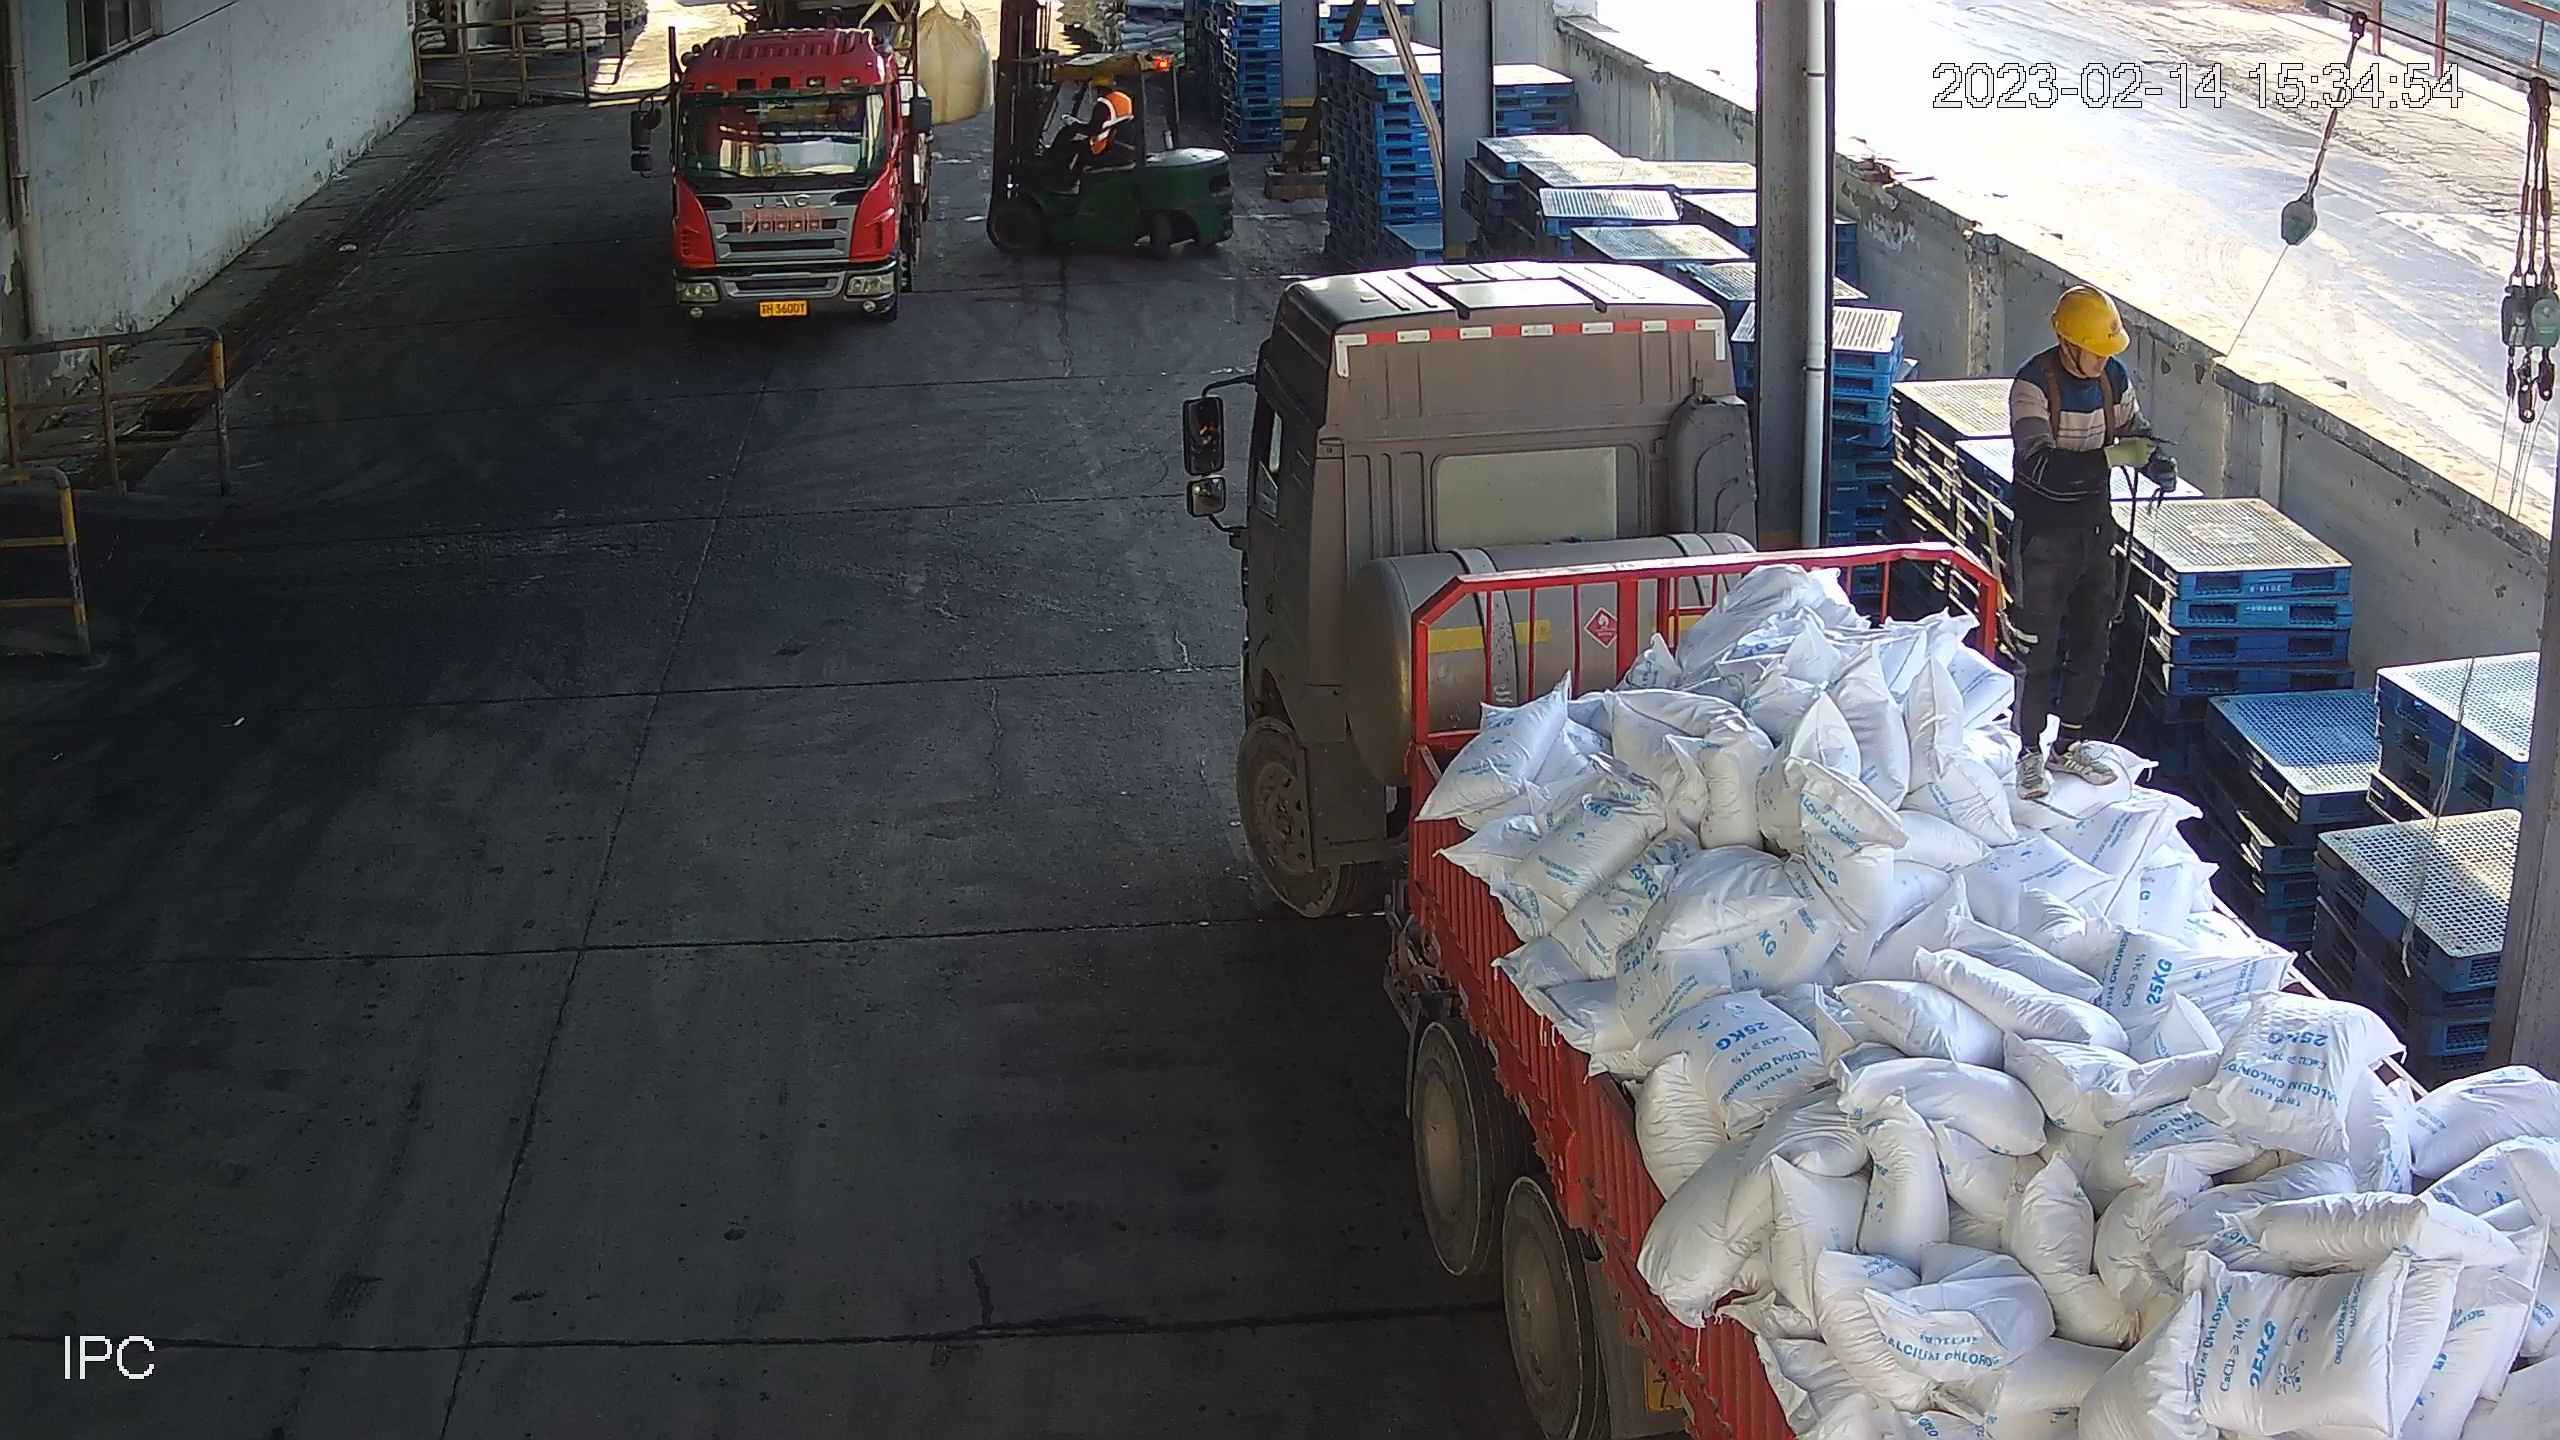belt: (2051, 376, 2125, 444)
head: (2018, 278, 2144, 413)
helmet: (2048, 272, 2128, 350)
people: (2013, 271, 2176, 806)
truck: (1179, 264, 2560, 1440), (621, 1, 963, 343)
